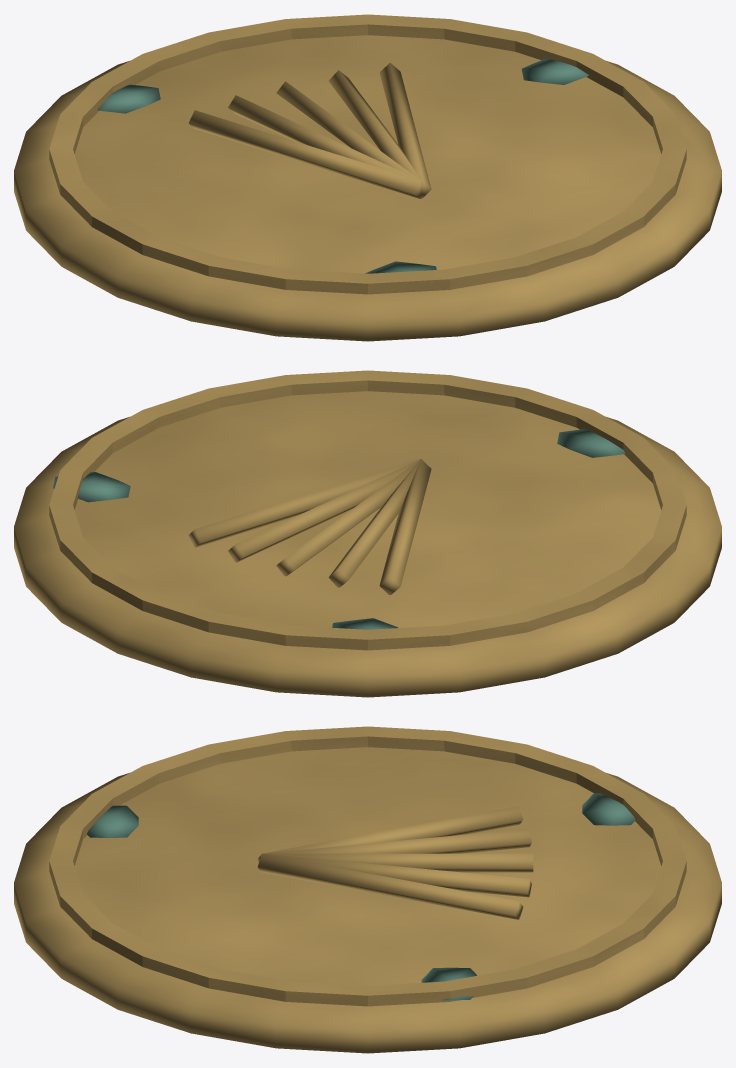
Rendered from sea_coin.fbx.
3 renders of one model, top to bottom at view 1: azimuth 30°, elevation 25°; view 2: azimuth 150°, elevation 25°; view 3: azimuth 270°, elevation 25°, orthographic.
Visible parts, largest first — view 1: sea_coin; view 2: sea_coin; view 3: sea_coin.
Part boxes in pixels (x1,y1,x2,y2): sea_coin: (14,14,721,341); sea_coin: (14,370,721,697); sea_coin: (14,726,721,1053).
Size of the model in its own units: 0.06 by 0.0074 by 0.06.
Materials: 1 (1 with a texture image).
